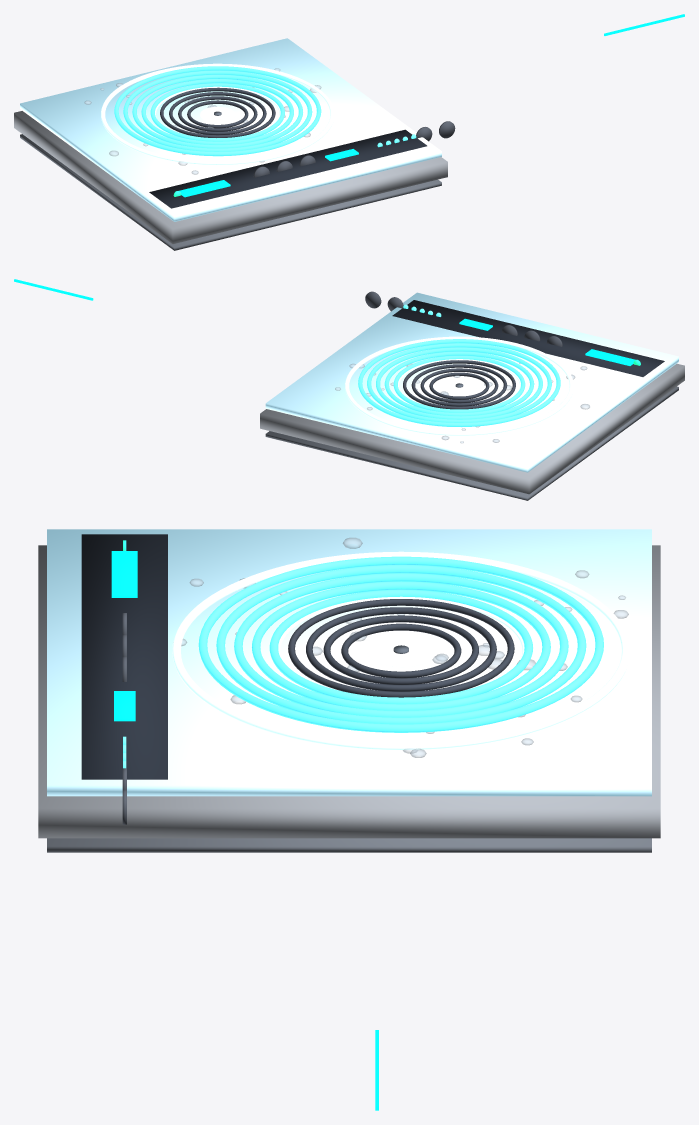
File: Chill_plate.glb
3 renders of one model, top to bottom at view 1: azimuth 30°, elevation 25°; view 2: azimuth 150°, elevation 25°; view 3: azimuth 270°, elevation 25°, orthographic. The views are drawn at different scales.
Parts seen in each view (by area): view 1: CryoGlassSurface, CryoBody, CtrlStrip, BottomPlate, FrostBoundary, CryoCoil_08, CryoCoil_07, CryoCoil_06, CryoCoil_05, CryoCoil_04, CryoCoil_03, CryoCoil_02 (+4 smaller); view 2: CryoGlassSurface, CryoBody, CtrlStrip, BottomPlate, FrostBoundary, CryoCoil_08, CryoCoil_07, CryoCoil_06, CryoCoil_05, CryoCoil_04, CryoCoil_03, CryoCoil_02 (+4 smaller); view 3: CryoGlassSurface, CryoBody, CtrlStrip, BottomPlate, FrostBoundary, CryoCoil_08, CryoCoil_07, CryoCoil_06, CryoCoil_05, CryoCoil_04, CryoCoil_03, CryoCoil_02 (+5 smaller).
Boxes of the visible parts, x1,y1,x2,y2 form: CryoGlassSurface: (20, 38, 441, 221); CryoBody: (14, 111, 447, 243); CtrlStrip: (149, 129, 426, 208); BottomPlate: (20, 134, 441, 250); FrostBoundary: (101, 63, 334, 164); CryoCoil_08: (114, 66, 321, 156); CryoCoil_07: (123, 70, 312, 151); CryoCoil_06: (132, 74, 302, 148); CryoCoil_05: (141, 79, 293, 144); CryoCoil_04: (150, 83, 284, 141); CryoCoil_03: (160, 87, 275, 137); CryoCoil_02: (169, 92, 266, 135); CryoGlassSurface: (265, 292, 678, 472); CryoBody: (260, 363, 684, 494); CtrlStrip: (392, 300, 664, 376); BottomPlate: (265, 386, 678, 500); FrostBoundary: (345, 336, 573, 435); CryoCoil_08: (358, 339, 560, 427); CryoCoil_07: (367, 343, 551, 422); CryoCoil_06: (376, 347, 542, 419); CryoCoil_05: (384, 351, 534, 416); CryoCoil_04: (393, 355, 525, 412); CryoCoil_03: (403, 360, 515, 409); CryoCoil_02: (411, 364, 507, 406); CryoGlassSurface: (47, 529, 651, 796); CryoBody: (38, 545, 660, 838); CtrlStrip: (81, 534, 167, 779); BottomPlate: (47, 838, 651, 852); FrostBoundary: (172, 551, 630, 750); CryoCoil_08: (198, 556, 603, 732); CryoCoil_07: (216, 565, 586, 724); CryoCoil_06: (234, 573, 568, 717); CryoCoil_05: (252, 581, 550, 710); CryoCoil_04: (269, 589, 532, 704); CryoCoil_03: (288, 599, 514, 697); CryoCoil_02: (306, 607, 496, 691).
Size of the model in its own units: 1.57 by 0.1235 by 0.72.
